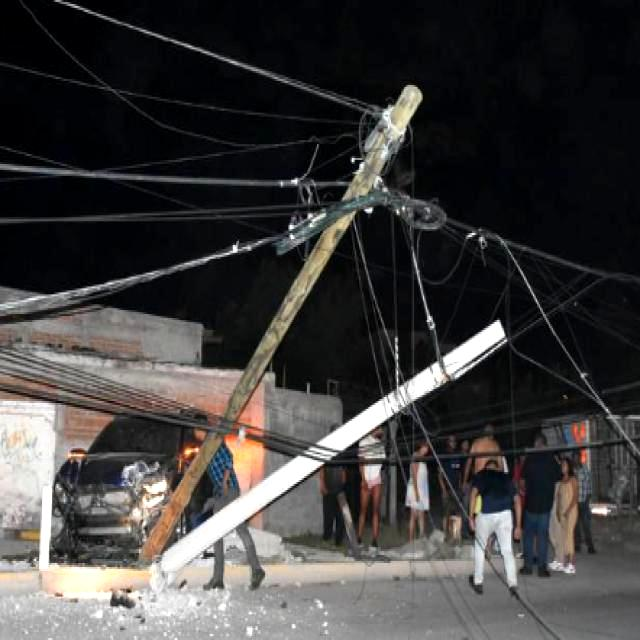Broken Pole: (135, 84, 447, 559), (158, 317, 510, 578)
